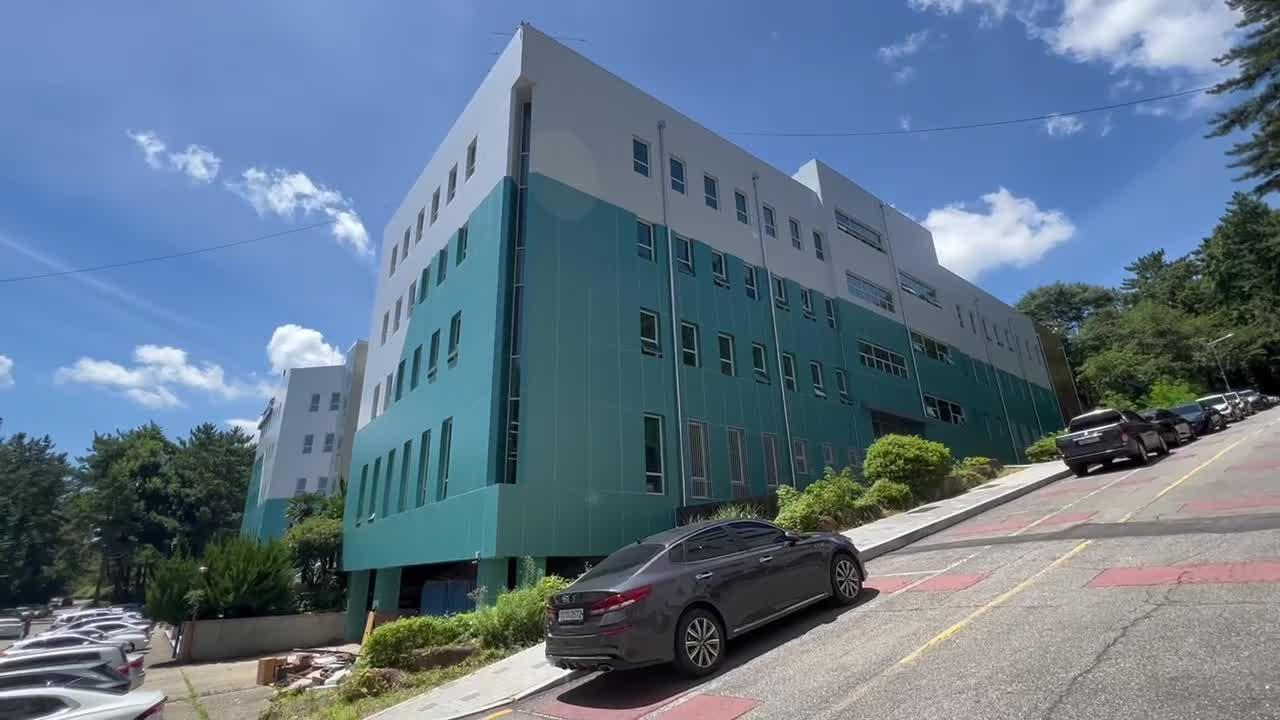building: (329, 37, 1027, 452)
